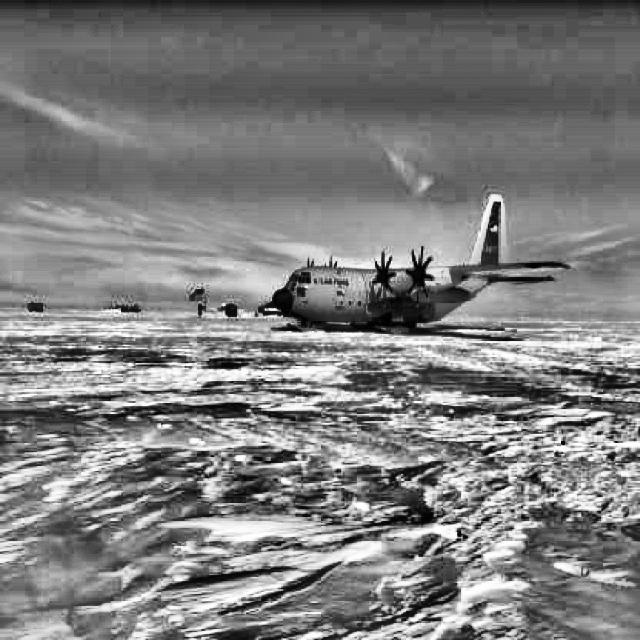C130: (272, 194, 571, 334)
